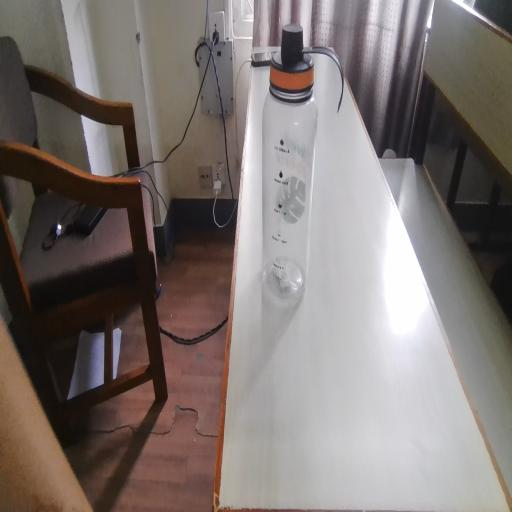Bottle: (259, 34, 350, 303)
